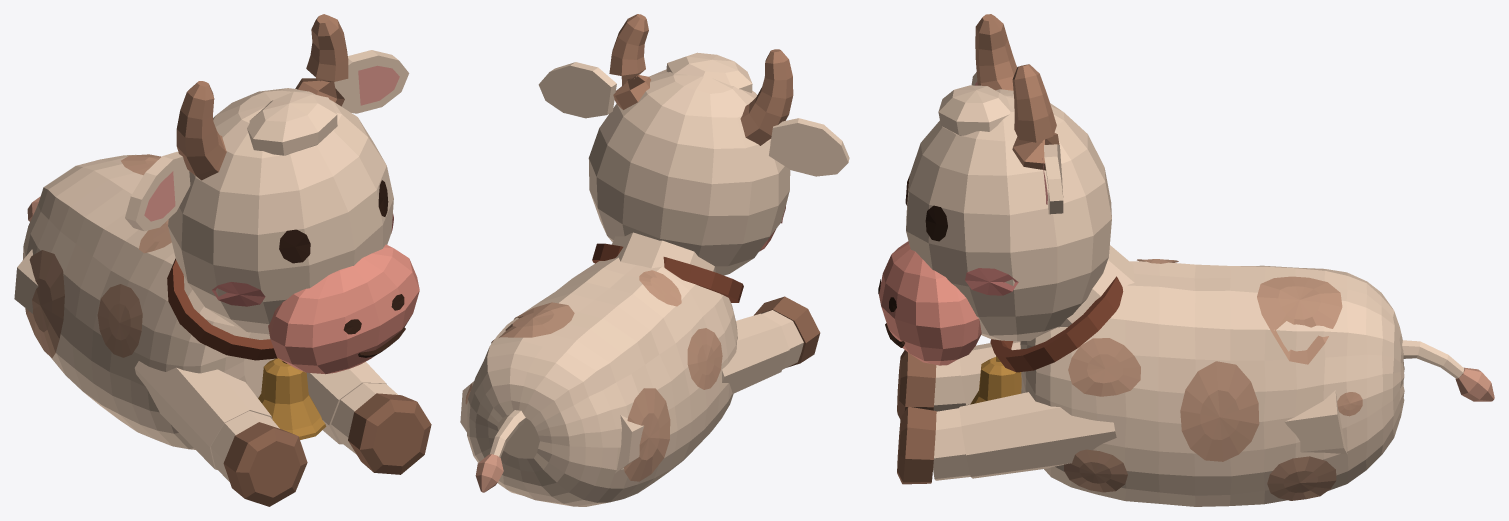
File: cow-rest.glb
The picture shows the model from 3 angles, left to right: view 1: azimuth 30°, elevation 25°; view 2: azimuth 150°, elevation 25°; view 3: azimuth 270°, elevation 25°; orthographic projection. The views are drawn at different scales.
Parts seen in each view (by area): view 1: head, body, muzzle, body_patches, leg_fl_upper, leg_fr_hoof, leg_fl_hoof, horn_r, bell, collar, horn_l, ear_r (+9 smaller); view 2: body, head, body_patches, ear_r, leg_fl_upper, ear_l, horn_r, horn_l, neck, collar, leg_fl_hoof, leg_hl_upper (+3 smaller); view 3: body, head, body_patches, leg_fr_upper, muzzle, collar, horn_l, leg_fr_hoof, horn_r, leg_hr_upper, leg_fr_lower, leg_fl_hoof (+9 smaller).
Boxes of the visible parts, x1,y1,x2,y2 form: head: (168, 88, 393, 334); body: (23, 154, 275, 449); muzzle: (268, 244, 419, 374); body_patches: (25, 154, 171, 357); leg_fl_upper: (134, 361, 272, 469); leg_fr_hoof: (348, 393, 431, 474); leg_fl_hoof: (223, 422, 307, 506); horn_r: (176, 81, 226, 180); bell: (258, 358, 326, 439); collar: (167, 258, 277, 360); horn_l: (295, 14, 348, 106); ear_r: (125, 151, 190, 231); body: (467, 257, 737, 506); head: (588, 52, 790, 275); body_patches: (465, 270, 722, 481); ear_r: (769, 118, 849, 176); leg_fl_upper: (722, 313, 789, 393); ear_l: (538, 62, 616, 118); horn_r: (740, 49, 793, 145); horn_l: (609, 14, 650, 109); neck: (612, 232, 715, 272); collar: (592, 243, 743, 302); leg_fl_hoof: (754, 296, 820, 367); leg_hl_upper: (615, 415, 644, 473); body: (1020, 261, 1404, 506); head: (906, 85, 1111, 341); body_patches: (1064, 259, 1362, 500); leg_fr_upper: (959, 392, 1116, 478); muzzle: (879, 241, 981, 365); collar: (990, 276, 1123, 372); horn_l: (1012, 64, 1059, 170); leg_fr_hoof: (897, 406, 936, 484); horn_r: (975, 14, 1016, 90); leg_hr_upper: (1285, 390, 1347, 454); leg_fr_lower: (933, 408, 970, 480); leg_fl_hoof: (897, 350, 936, 419).
Bounding box in the file's own units: 1.46 × 1.98 × 2.48.
